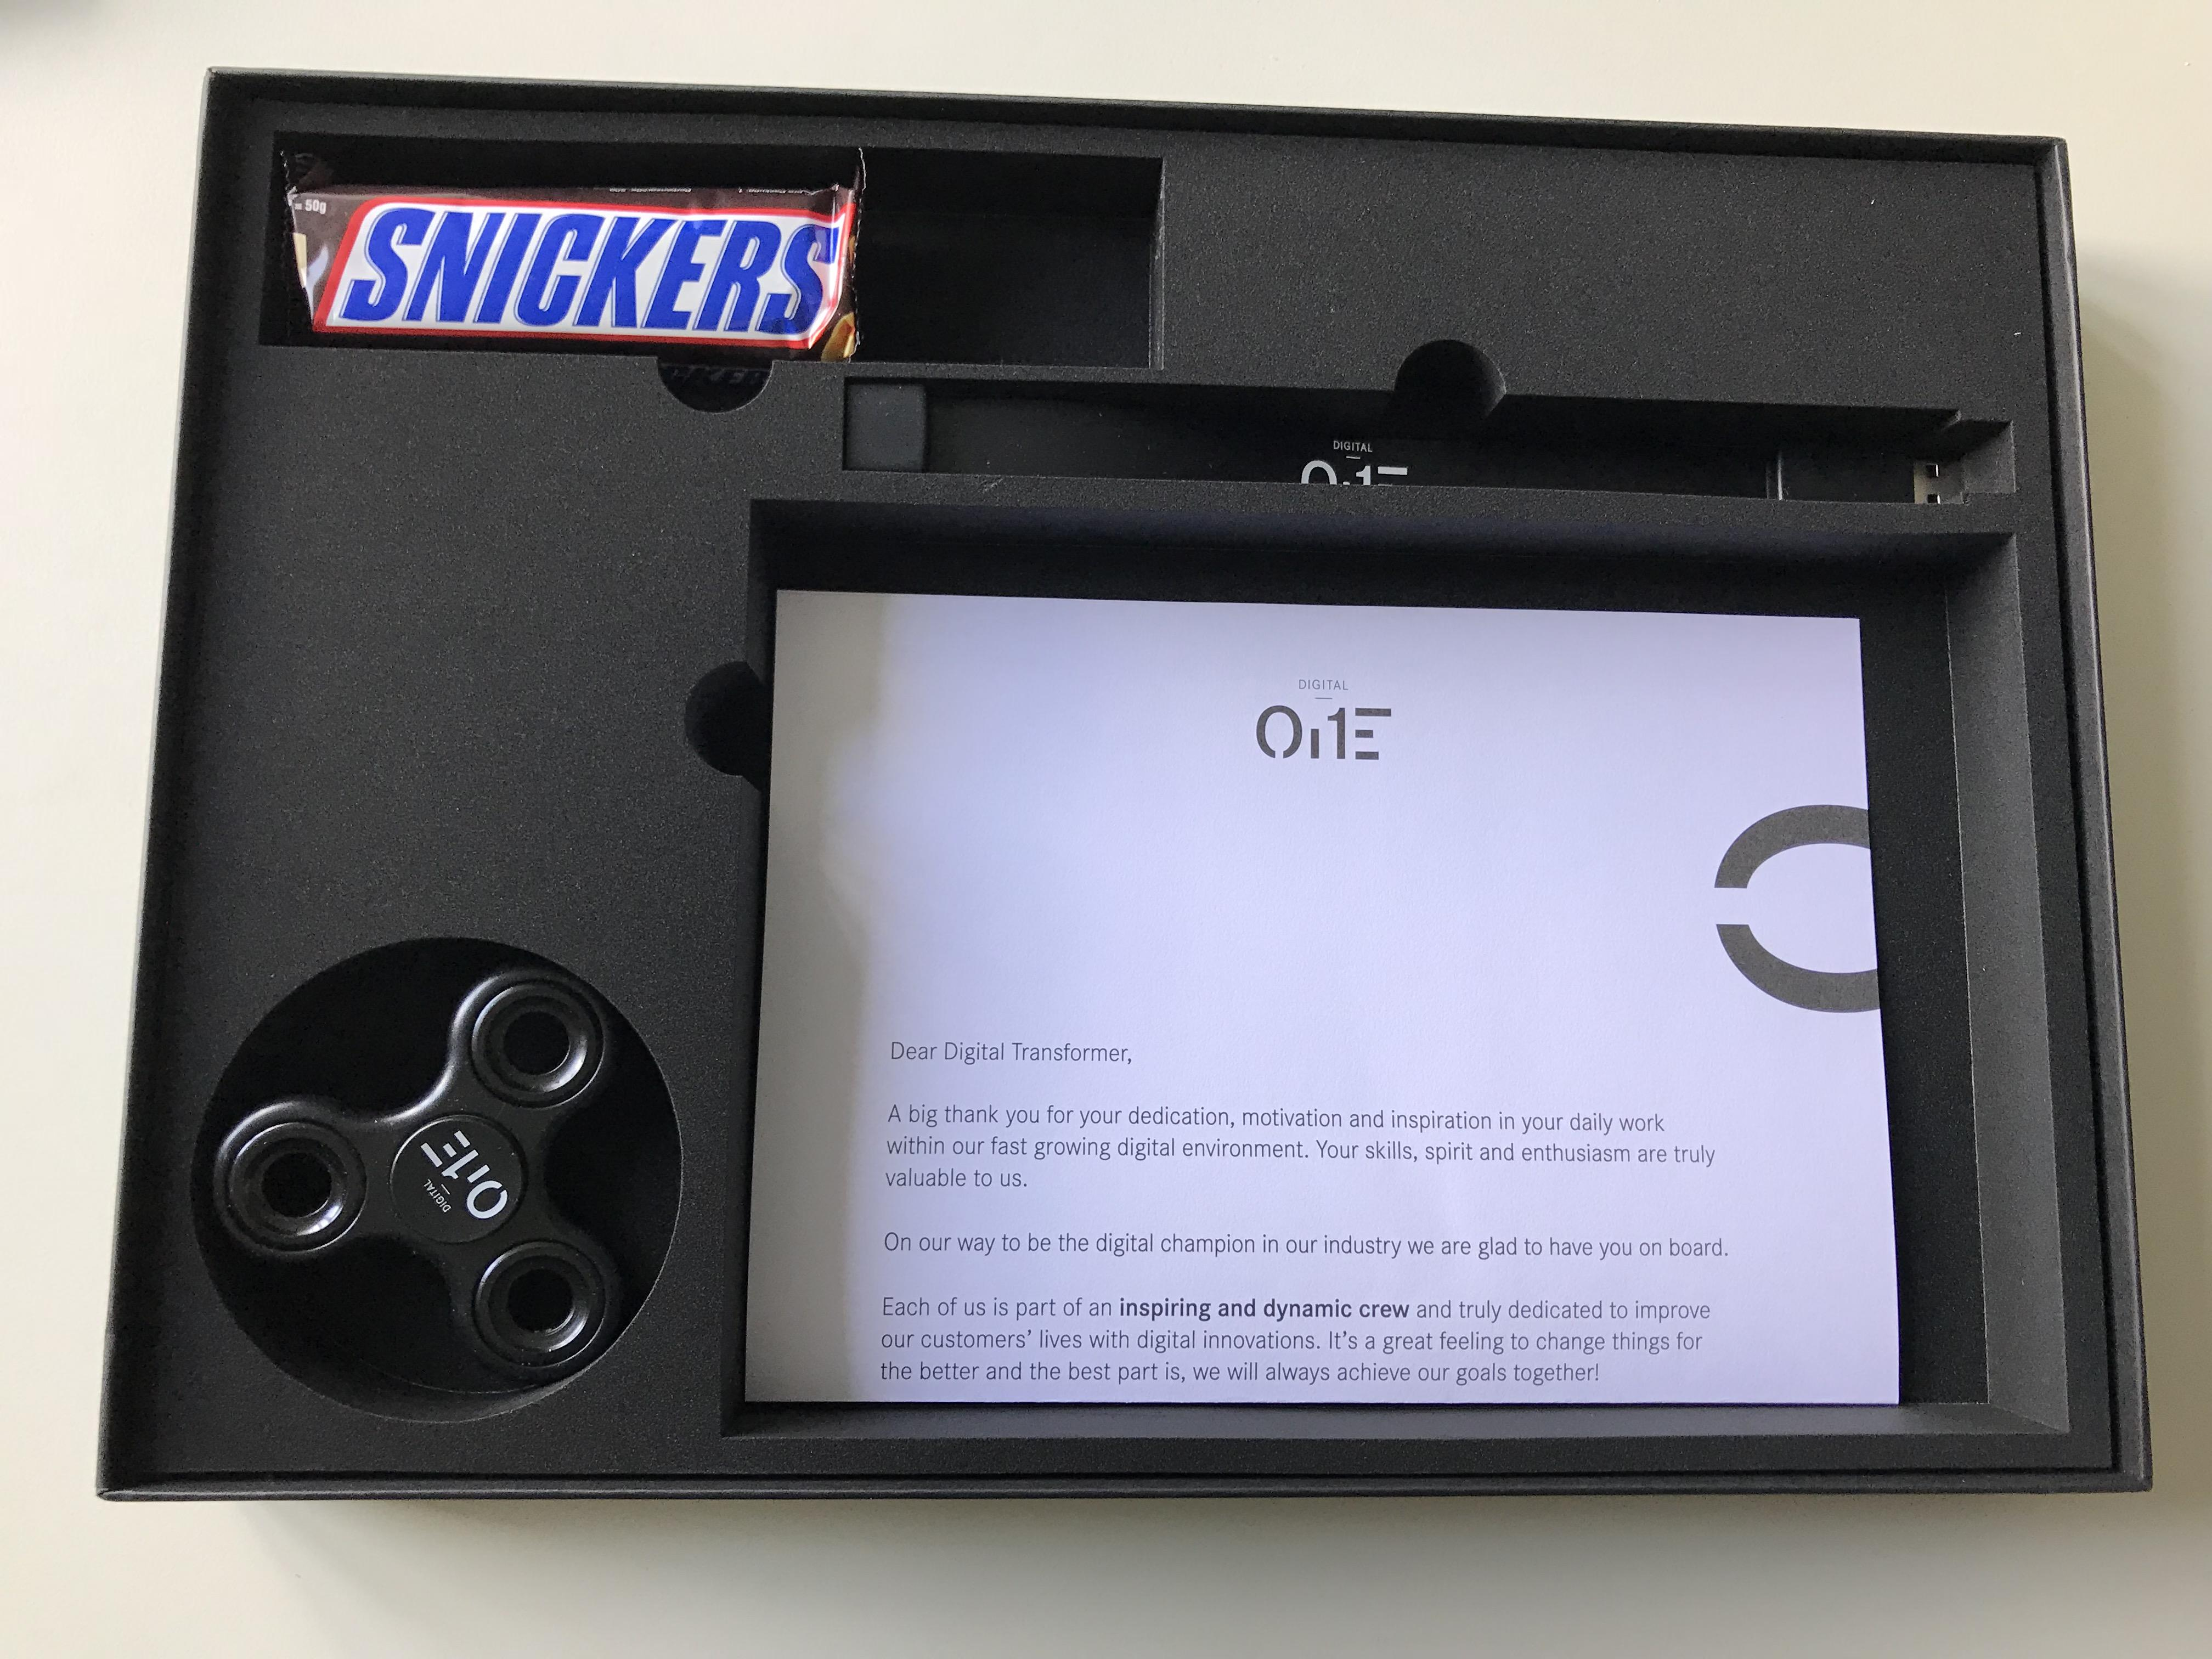snickers: (336, 204, 843, 324)
